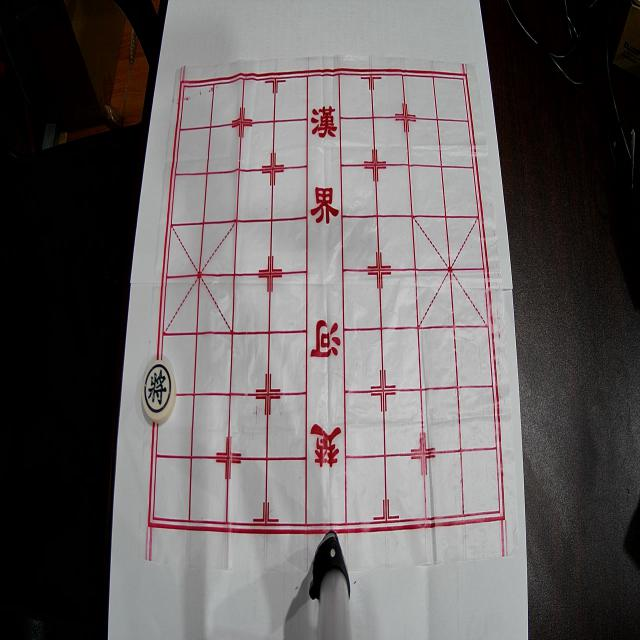black-general: (142, 360, 176, 424)
